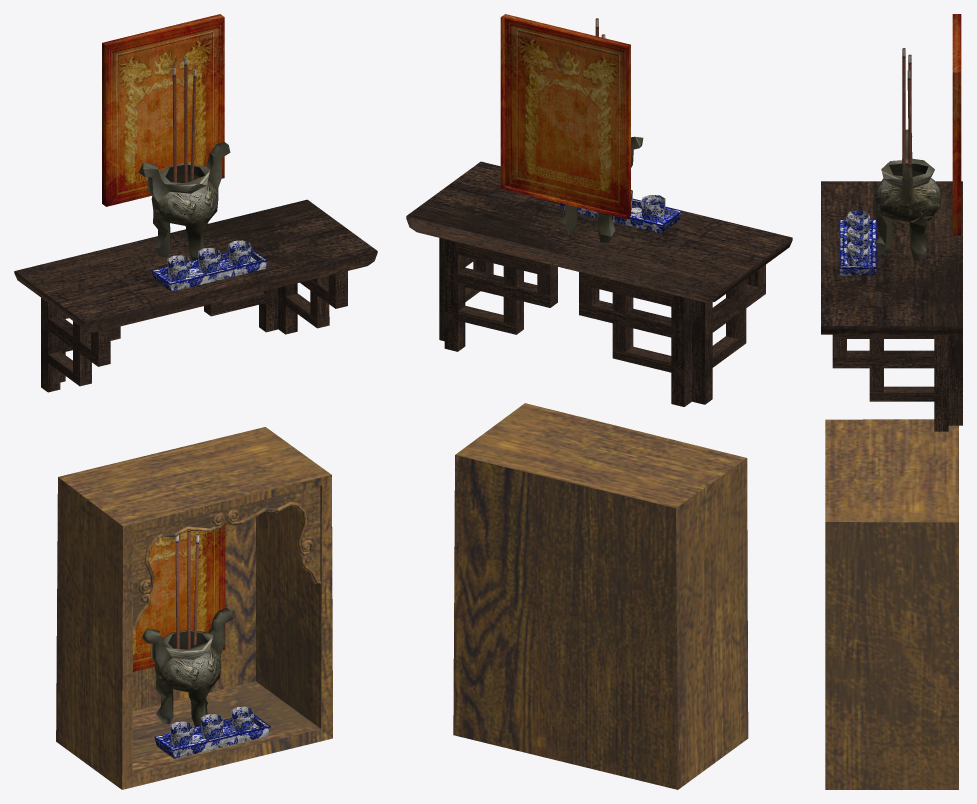
3 views of the same model, side by side, from view 1: azimuth 30°, elevation 25°; view 2: azimuth 150°, elevation 25°; view 3: azimuth 270°, elevation 25° (orthographic). The views are drawn at different scales.
Visible parts, largest first — view 1: alter 2, alter 1; view 2: alter 2, alter 1; view 3: alter 2, alter 1.
Part boxes in pixels (x1,y1,x2,y2): alter 2: (56,427,332,789); alter 1: (14,14,377,392); alter 2: (453,403,748,789); alter 1: (406,14,792,406); alter 2: (825,419,958,789); alter 1: (821,14,962,431).
Size of the model in its own units: 2.65 by 5.93 by 1.1.
Materials: 1 (1 with a texture image).
